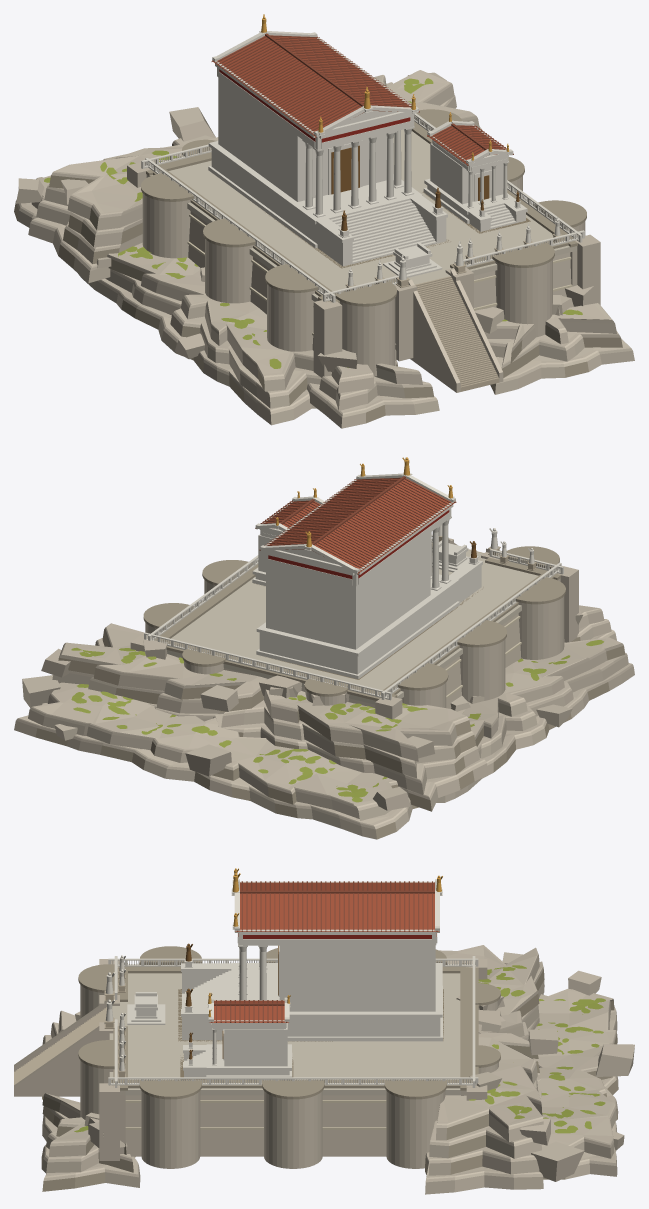
The model's file is rome_victoria.glb.
The picture shows the model from 3 angles, top to bottom: view 1: azimuth 30°, elevation 25°; view 2: azimuth 150°, elevation 25°; view 3: azimuth 270°, elevation 25°; orthographic projection. The views are drawn at different scales.
Parts seen in each view (by area): view 1: rome_victoria; view 2: rome_victoria; view 3: rome_victoria.
Part boxes in pixels (x1=…): rome_victoria: x1=14, y1=14, x2=634, y2=428; rome_victoria: x1=14, y1=457, x2=634, y2=839; rome_victoria: x1=14, y1=868, x2=634, y2=1194.
Size of the model in its own units: 65.92 by 36.19 by 84.5.
